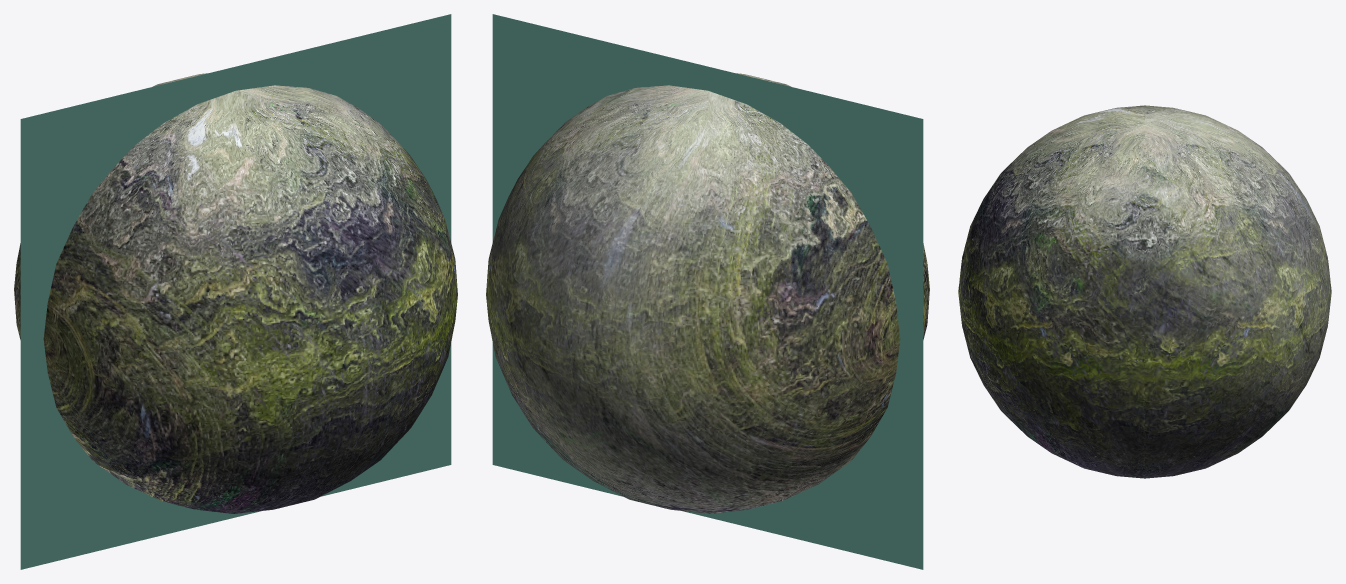
Rendered from planet_r.fbx.
3 renders of one model, left to right at view 1: azimuth 30°, elevation 25°; view 2: azimuth 150°, elevation 25°; view 3: azimuth 270°, elevation 25°, orthographic. The views are drawn at different scales.
Parts seen in each view (by area): view 1: planet_r, planet_r_glow; view 2: planet_r, planet_r_glow; view 3: planet_r.
Boxes of the visible parts, x1=… form: planet_r: x1=14, y1=73, x2=457, y2=513; planet_r_glow: x1=20, y1=14, x2=451, y2=569; planet_r: x1=486, y1=73, x2=929, y2=513; planet_r_glow: x1=492, y1=14, x2=923, y2=569; planet_r: x1=958, y1=105, x2=1331, y2=478.
Size of the model in its own units: 280 by 280 by 250.
2 materials, 1 textured.
